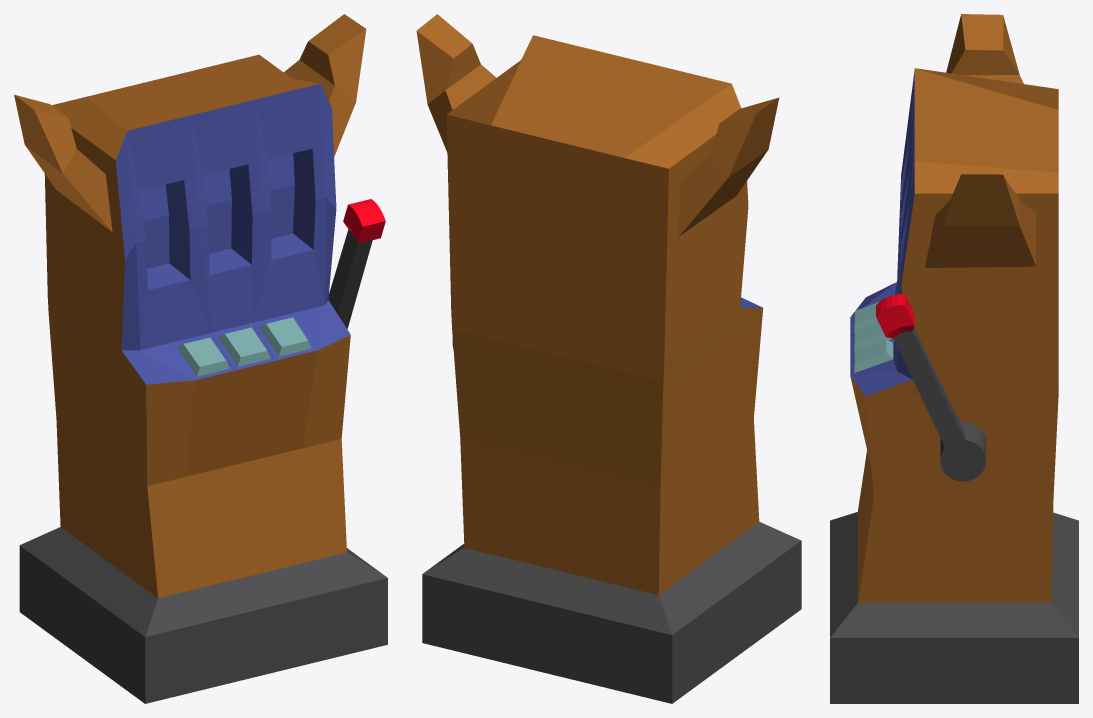
Rendered from SlotMachine.fbx.
The picture shows the model from 3 angles, left to right: view 1: azimuth 30°, elevation 25°; view 2: azimuth 150°, elevation 25°; view 3: azimuth 270°, elevation 25°; orthographic projection. The views are drawn at different scales.
Parts seen in each view (by area): view 1: Machine, Handle; view 2: Machine; view 3: Machine, Handle.
Boxes of the visible parts, x1,y1,x2,y2 form: Machine: [14, 14, 387, 703]; Handle: [328, 199, 385, 329]; Machine: [416, 14, 801, 703]; Machine: [830, 14, 1078, 703]; Handle: [876, 294, 985, 481].
Bounding box in the file's own units: 393 × 629 × 257.
